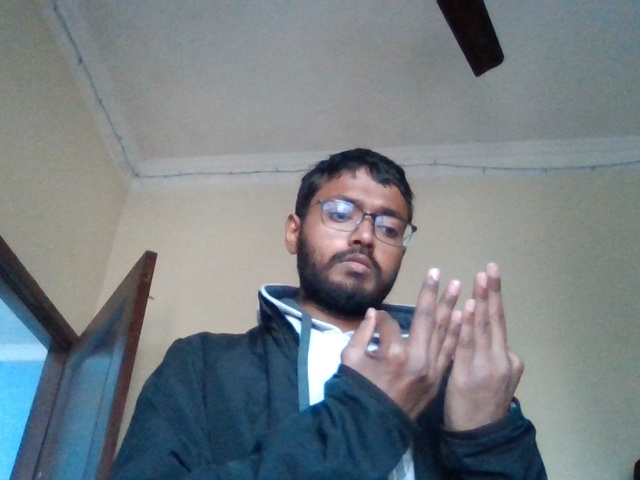family: (346, 273, 538, 422)
